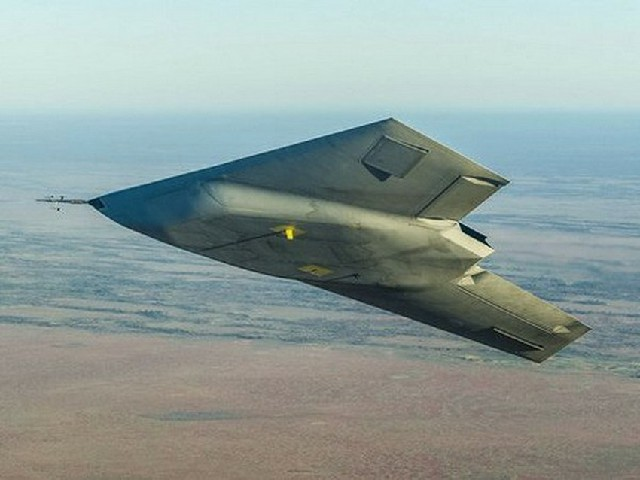maybay_khongnguoilai: (73, 115, 585, 370)
